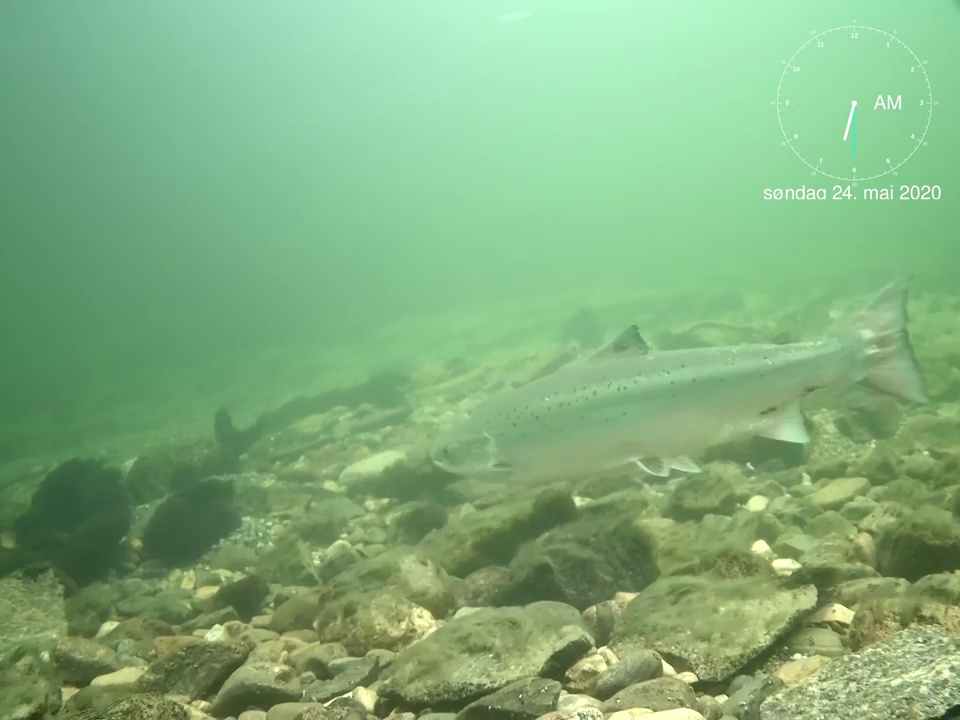salmon: (428, 267, 934, 482)
